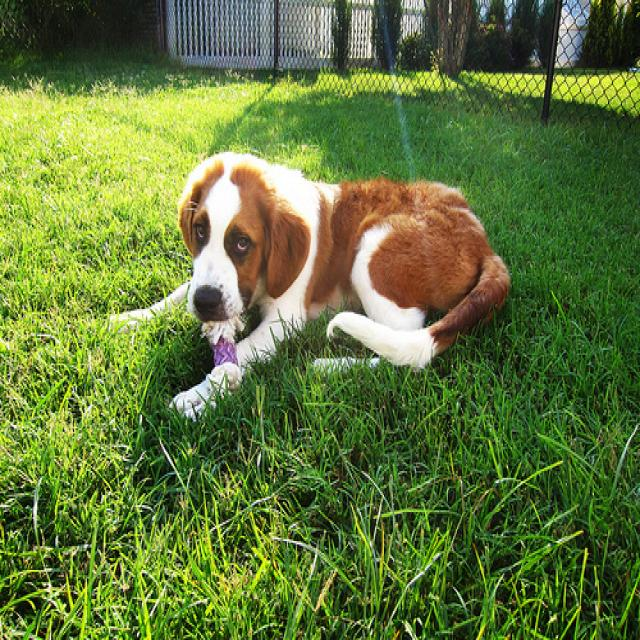dog-saint_bernard: (97, 143, 517, 435)
